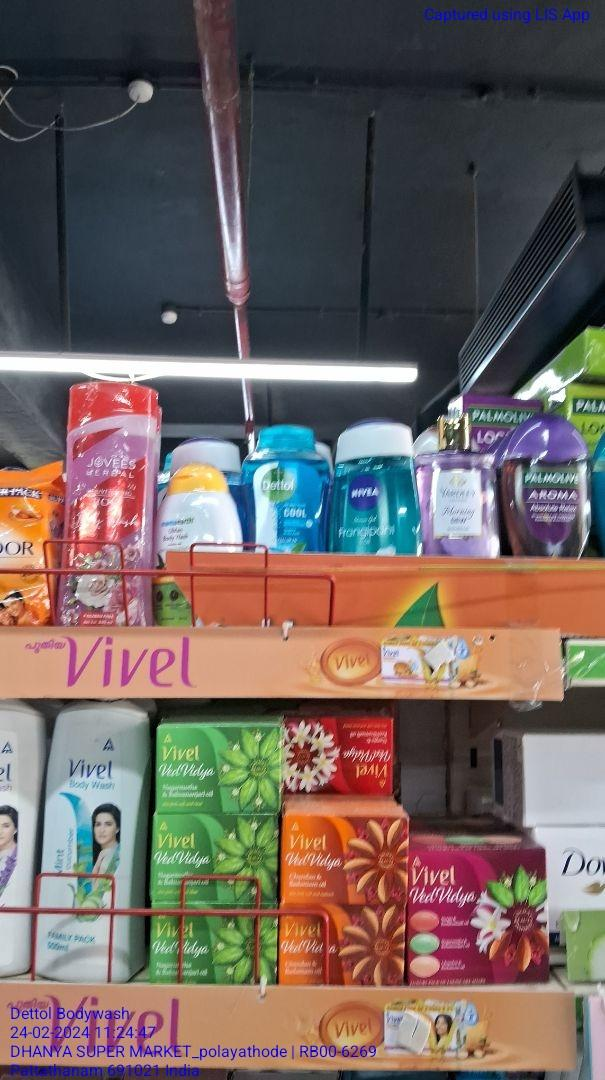Dettol_Bodywash_Cool: (247, 422, 326, 551)
Nivea_Shower_Gel_Frangipani_and_Oil_250ML: (331, 419, 416, 556)
